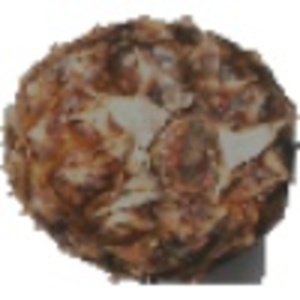abacaxi: (4, 10, 290, 276)
